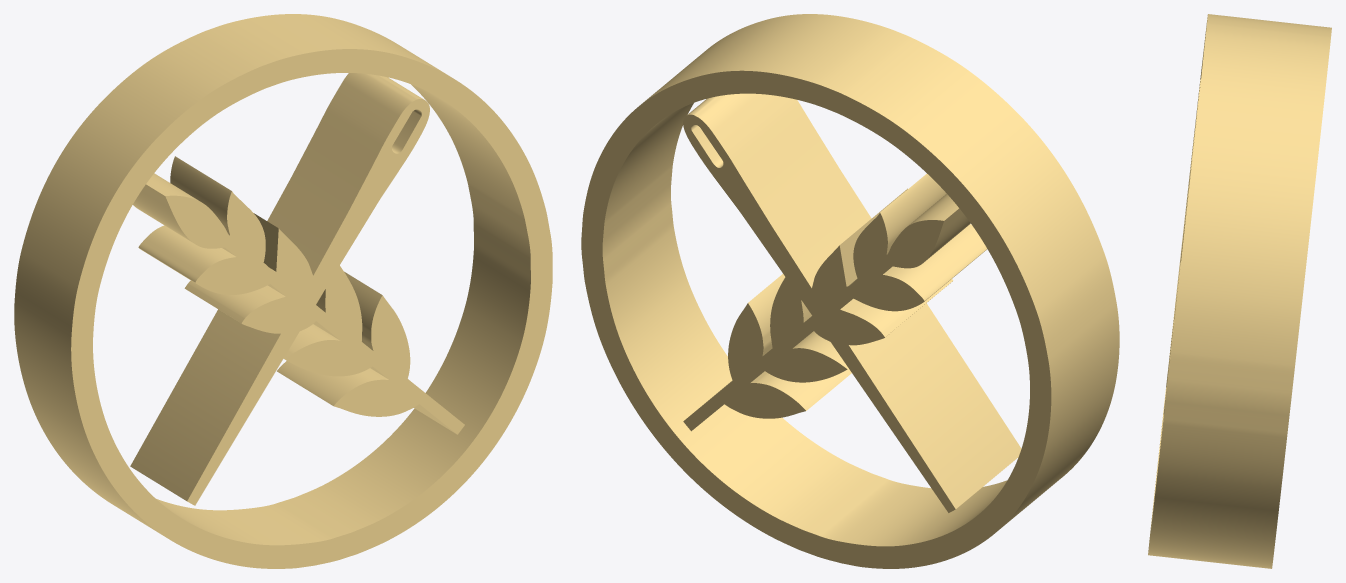
Rendered from Haystack from DN Gold.obj.
3 views of the same model, side by side, from view 1: azimuth 30°, elevation 25°; view 2: azimuth 150°, elevation 25°; view 3: azimuth 270°, elevation 25° (orthographic). The views are drawn at different scales.
Parts seen in each view (by area): view 1: Layer 1; view 2: Layer 1; view 3: Layer 1.
Boxes of the visible parts, x1=… form: Layer 1: x1=14, y1=14, x2=552, y2=568; Layer 1: x1=581, y1=14, x2=1119, y2=568; Layer 1: x1=1148, y1=14, x2=1331, y2=568.
Size of the model in its own units: 2851 by 2872 by 954.
1 material, 1 textured.
